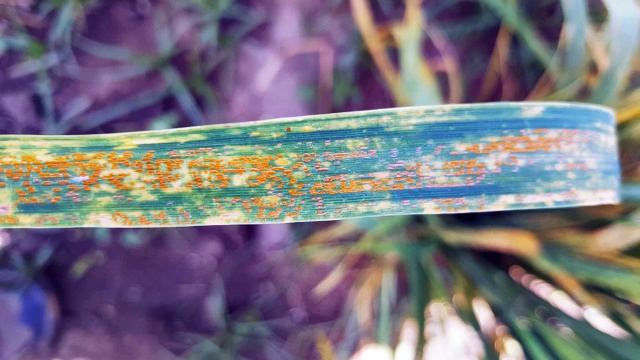Leaf Rust: (1, 115, 639, 234)
